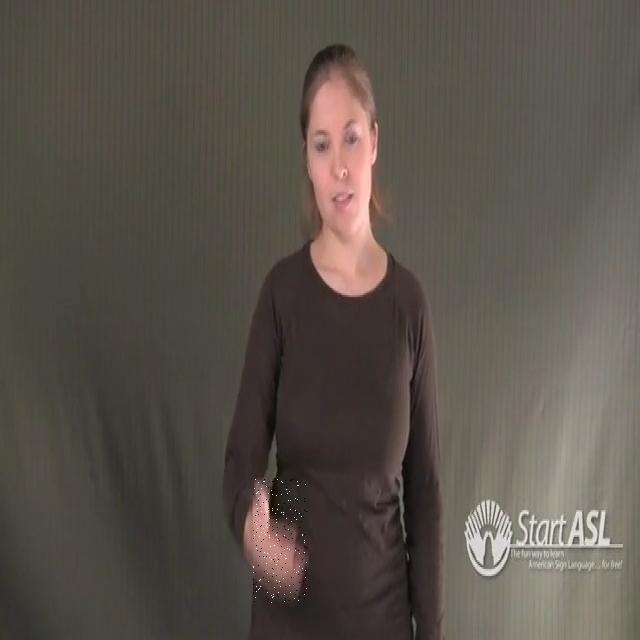thank-you: (254, 478, 308, 604)
